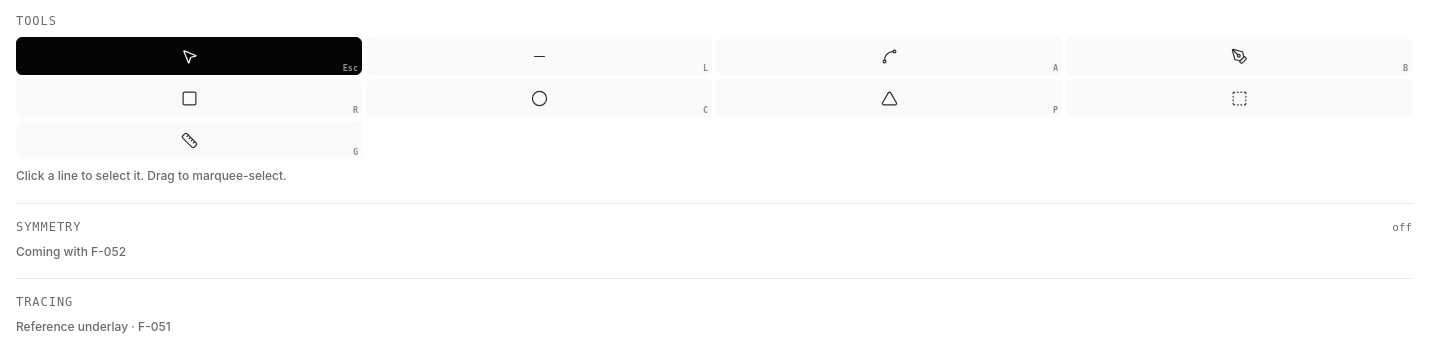
it: DrawPanel — the tool palette (F-011) › activates a tool and shows what its next click does
expect the text with test id "tool-hint" shows "Drag to marquee-select": met, box [16,168,287,183]
Step 1. Click the button named "Line (L)" → click(539, 56), box [366,37,712,75]
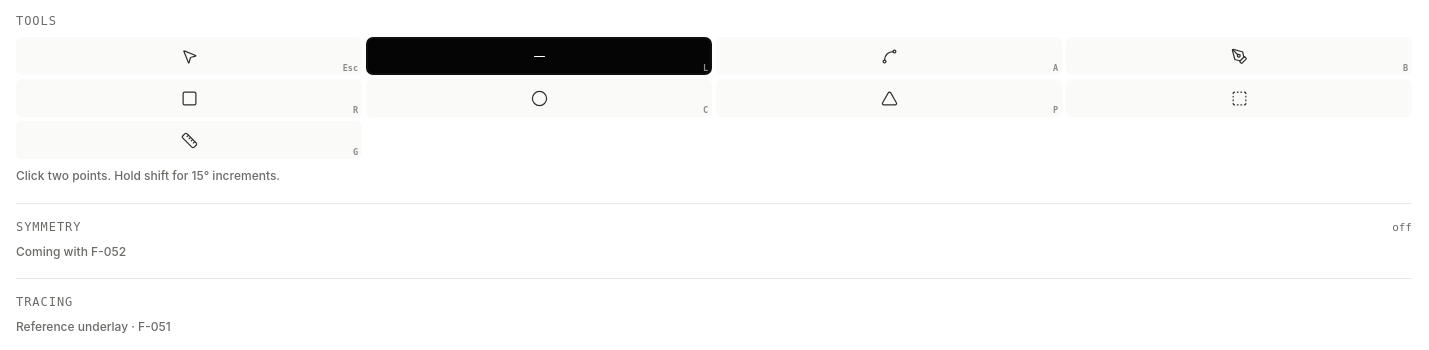
expect the text with test id "tool-hint" shows "Hold shift for 15° increments": met, box [16,168,280,183]
